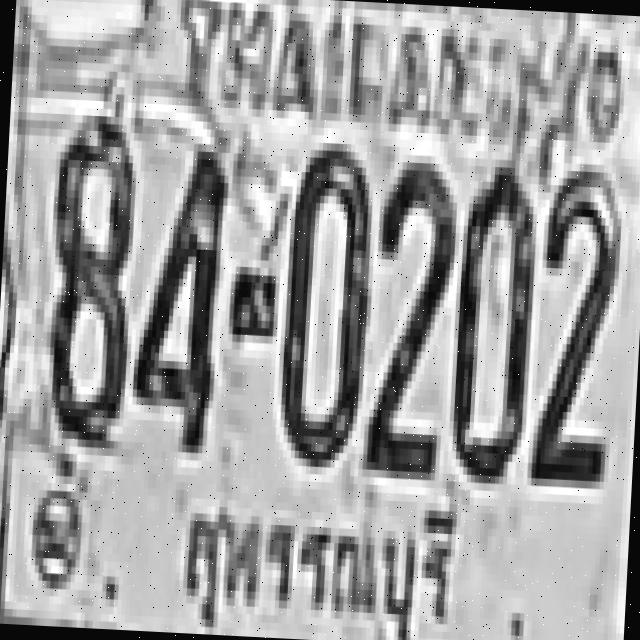0: (274, 137, 372, 465), (447, 158, 536, 477)
2: (528, 162, 620, 482), (362, 157, 456, 469)
4: (128, 134, 229, 446)
8: (41, 106, 136, 442)
SuphanBuri: (152, 473, 482, 640)
